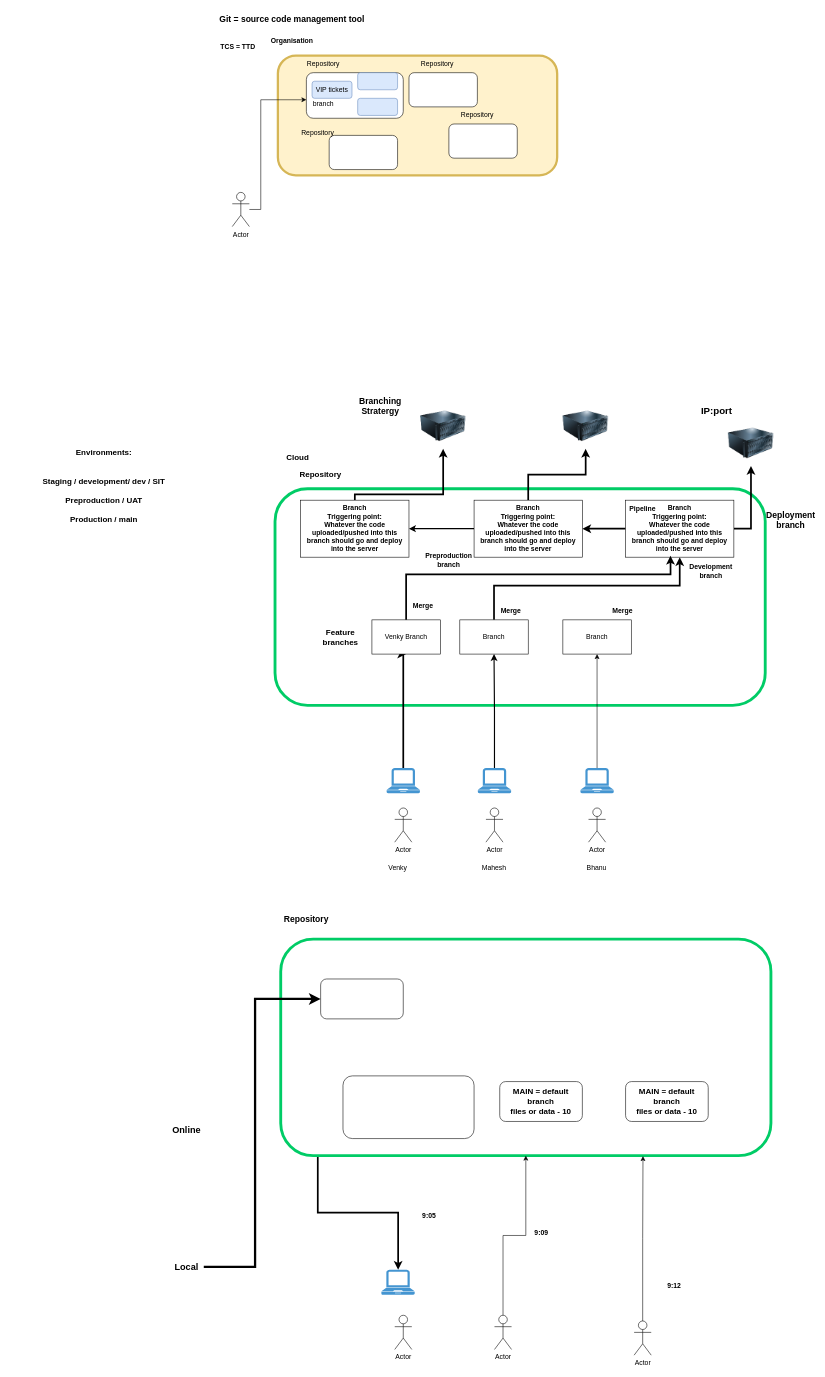
Image size: 825x1377. Some labels were removed from this diagram. Here are the shapes that lost their labels. From the top down, the centre of each, then its label:
At (x=361, y=998): "MAIN = default branch files or data - 7".
At (x=408, y=1107): "venky branch files or data = 7".
